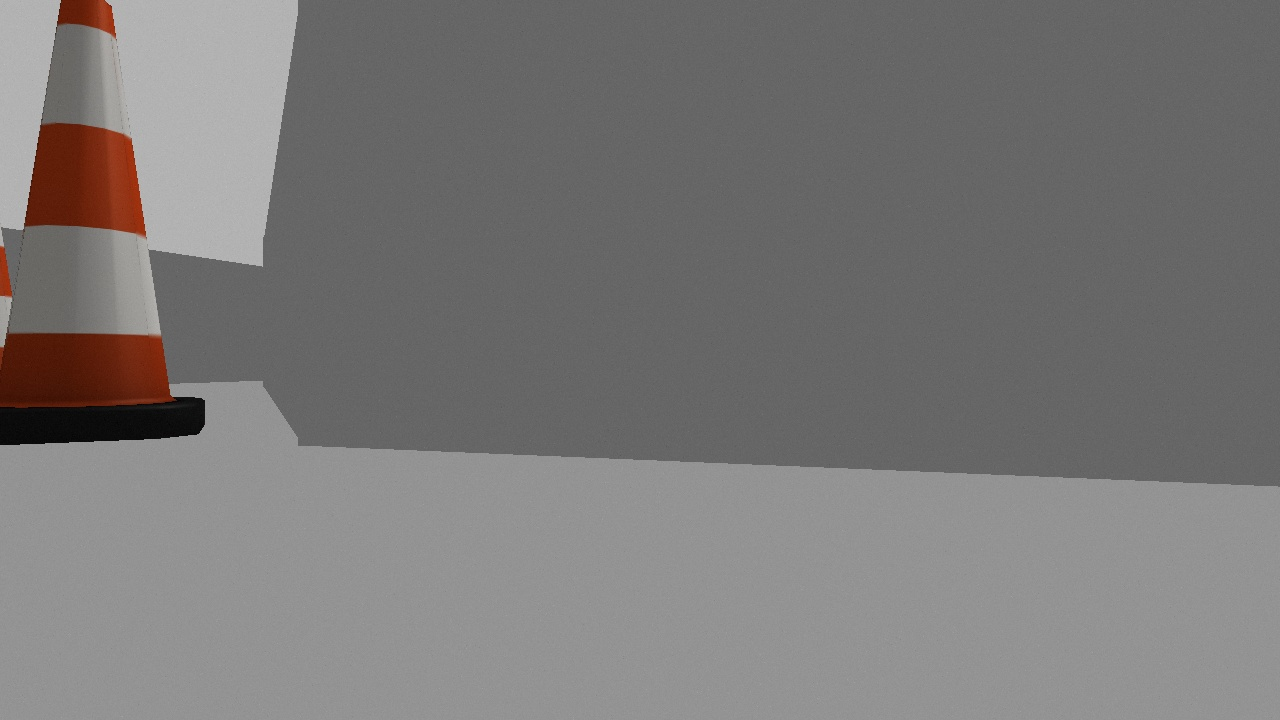barricade: (1, 1, 207, 444)
